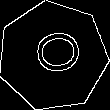O_W: (25, 31, 81, 81)
